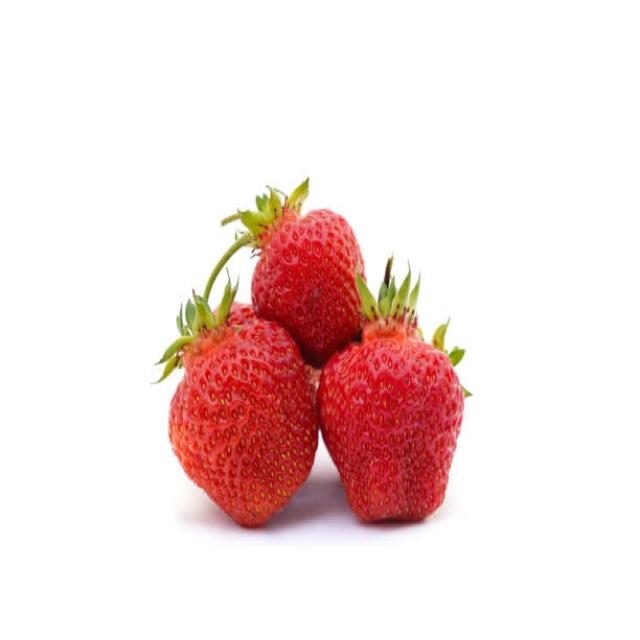Healthy Fruit: (168, 319, 320, 525), (316, 337, 464, 525), (251, 207, 370, 365)
